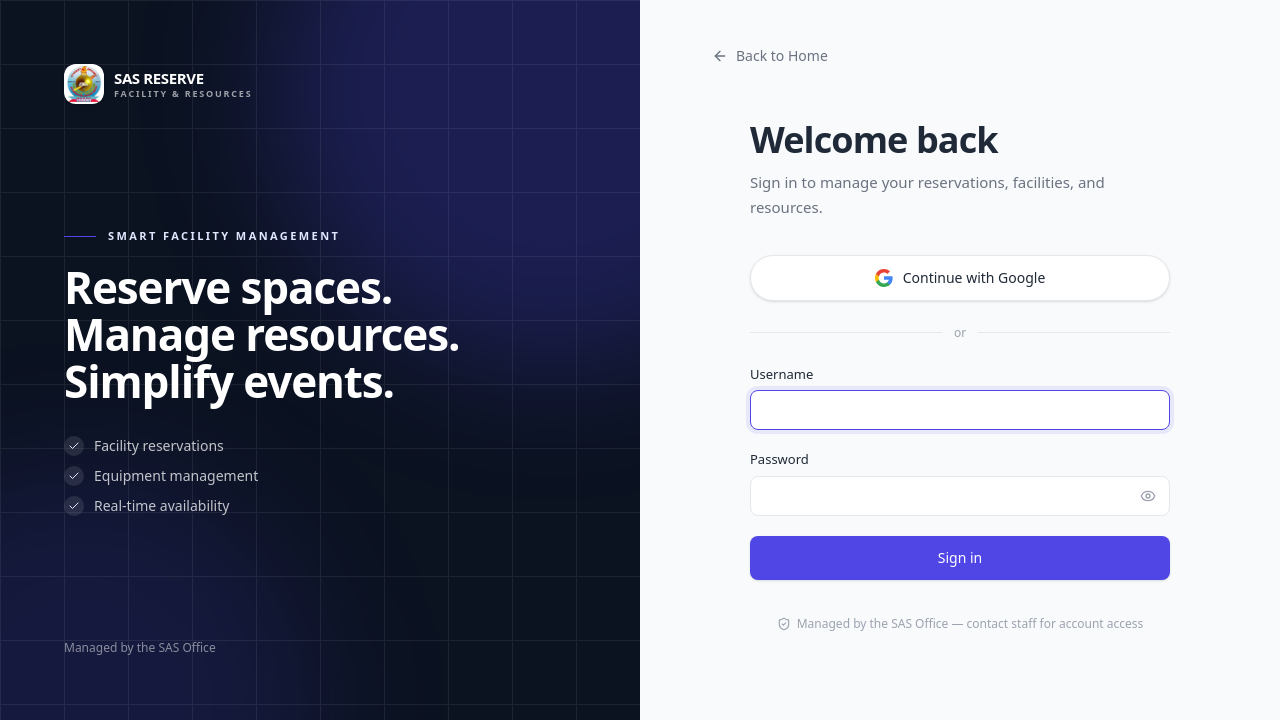
it: LoginPage — deactivated account modal › a deactivated password login opens the modal, not the inline error
Type "req" into the field labelled "Username". click: (960, 410)
box: [750, 390, 1170, 430]
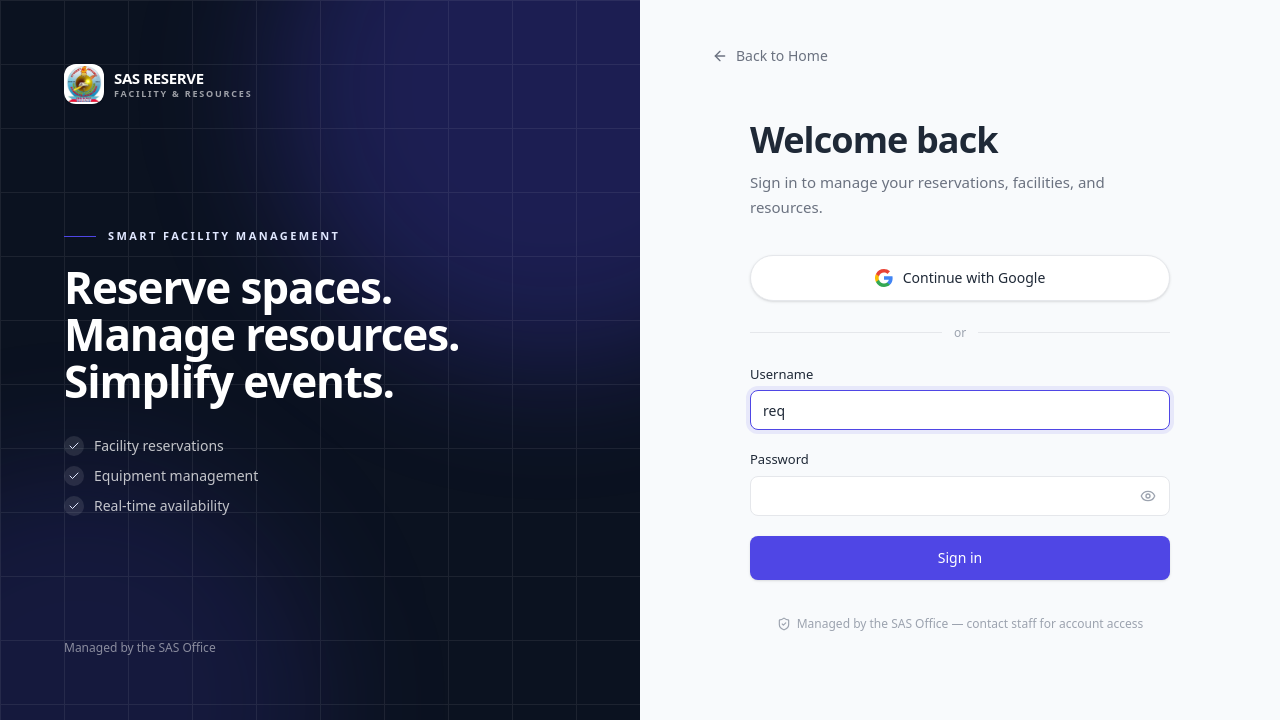
Type "pass1234!" into the password field labelled "Password". click: (960, 496)
box: [750, 476, 1170, 516]
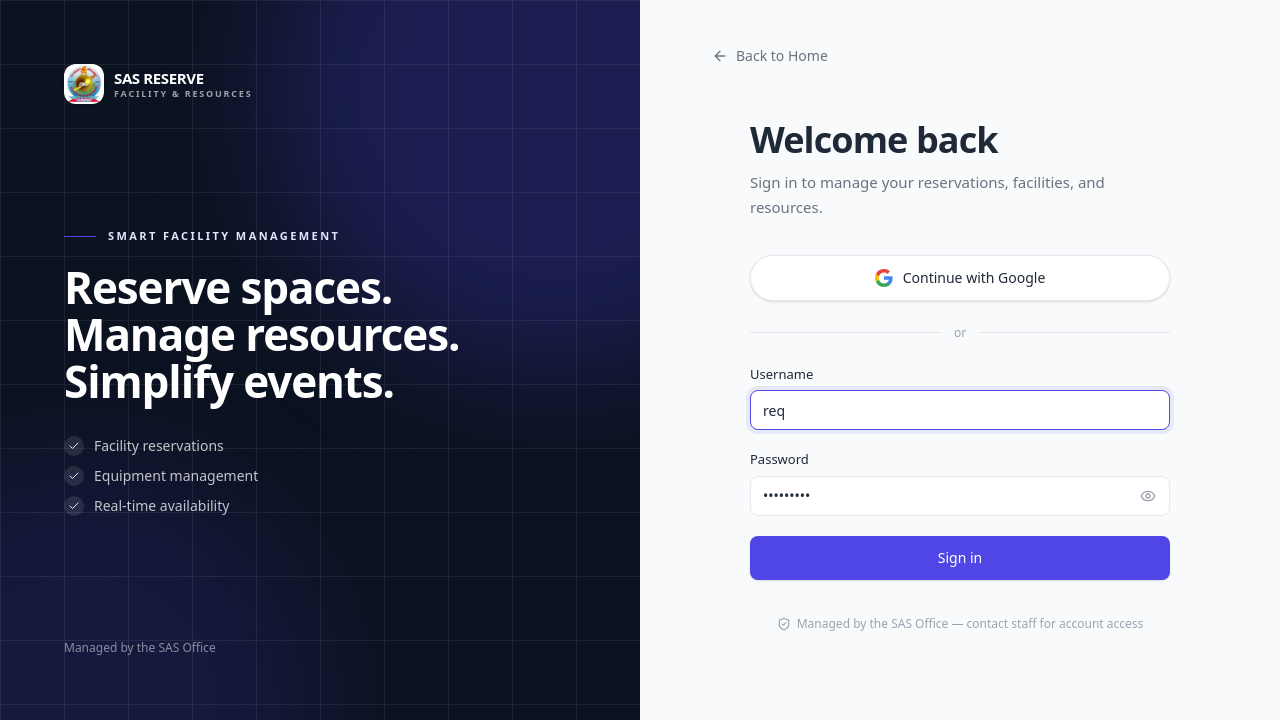
Click the button "Sign in". click: (960, 558)
box: [750, 536, 1170, 580]
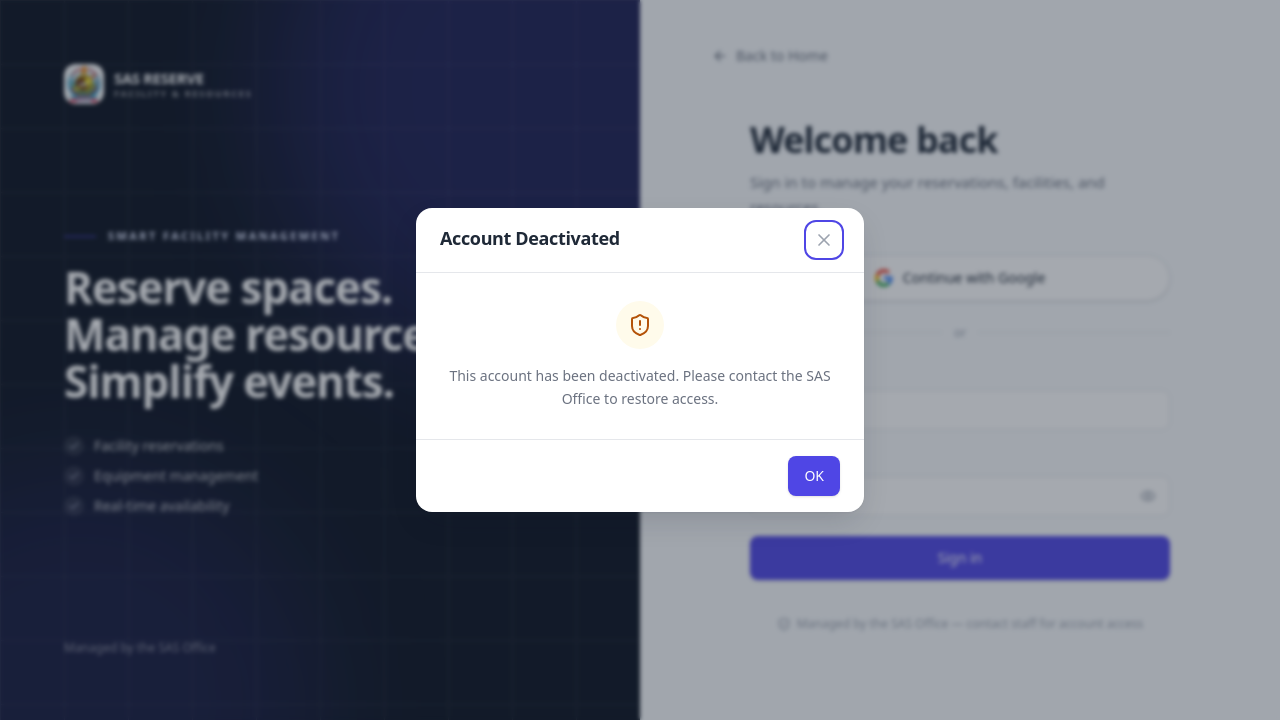
Check: the heading "Account Deactivated" is shown, box [440, 224, 620, 252]
Check: the text "This account has been deactivated. Please contact the SAS Office to restore access." is shown, box [449, 366, 831, 408]
Check: the button "OK" is shown, box [788, 456, 840, 496]
